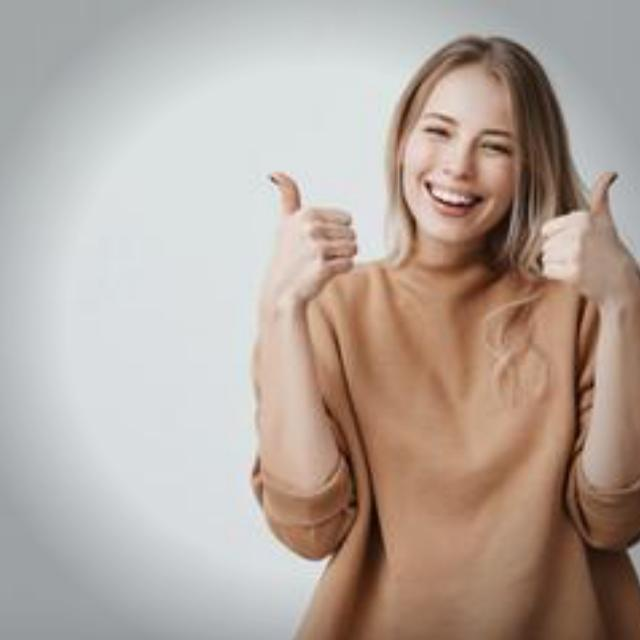Happy: (359, 106, 535, 281)
